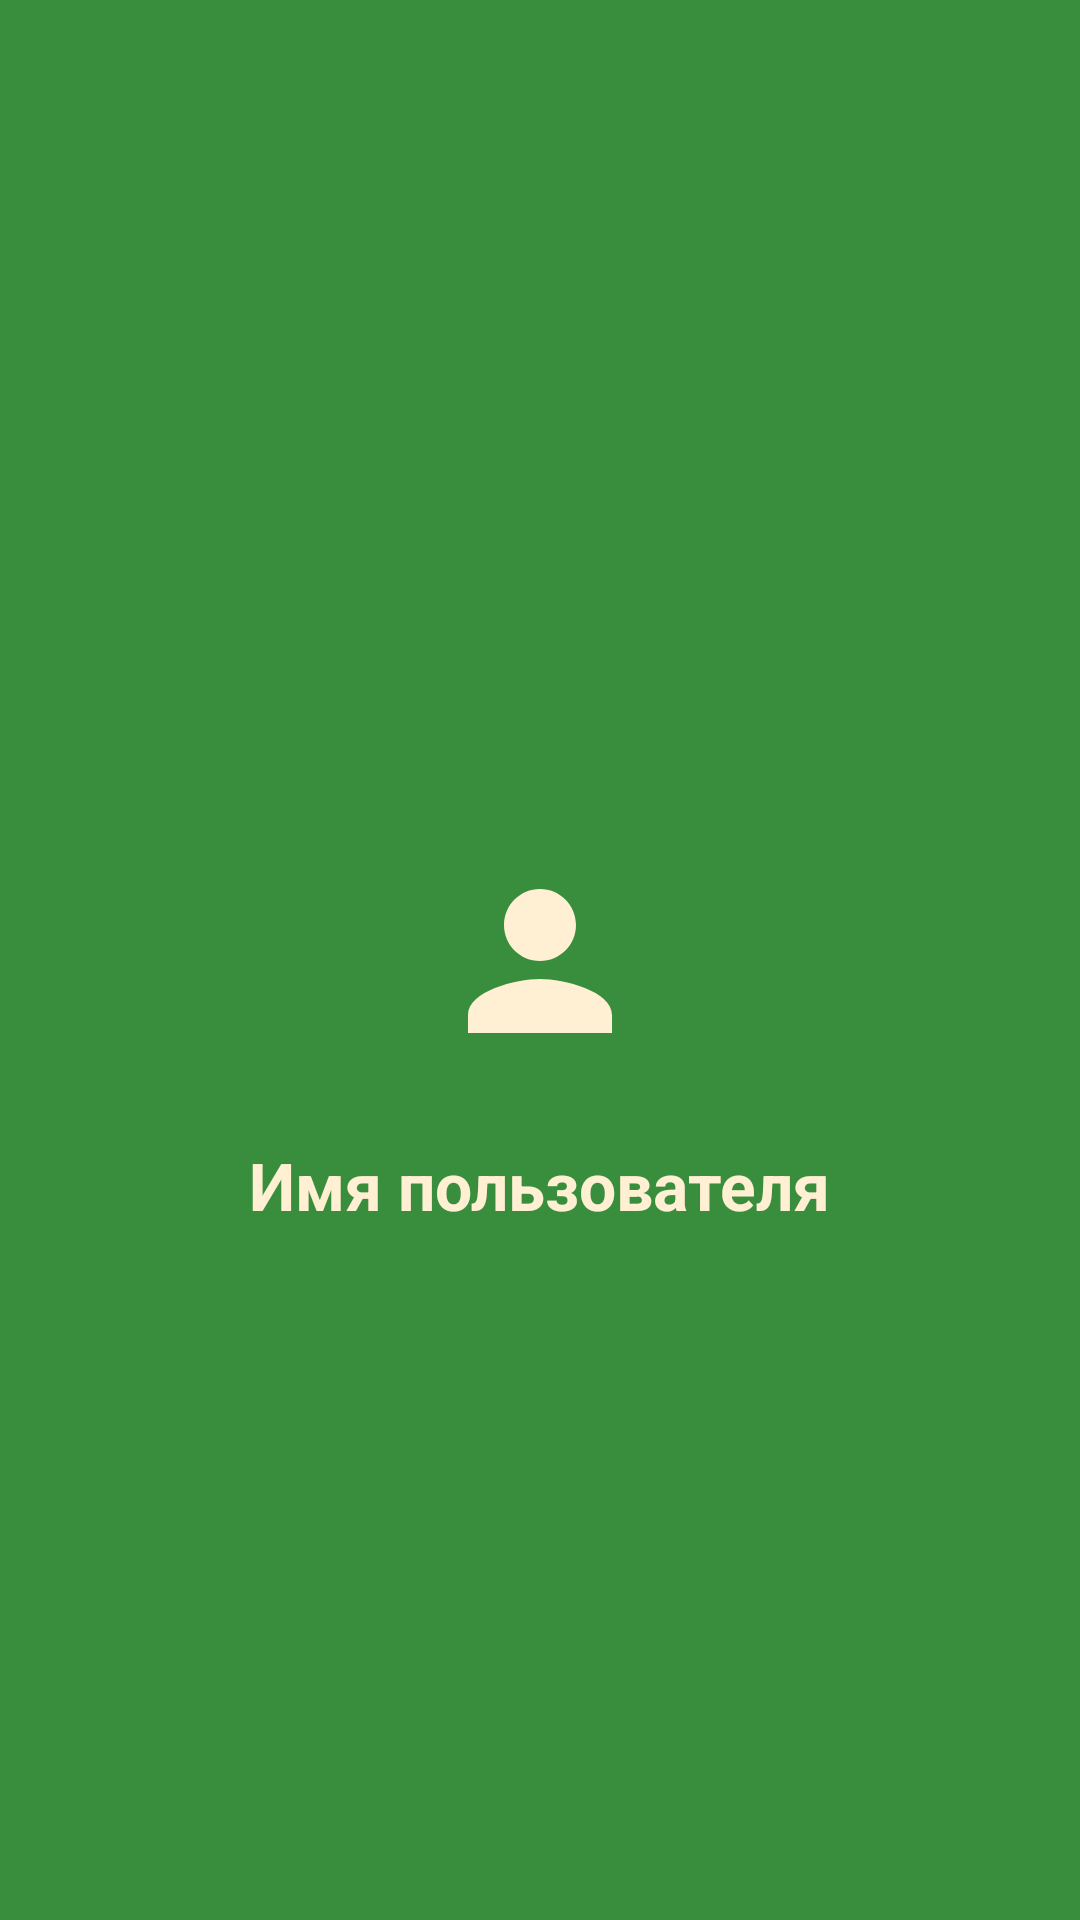

Icon bounding boxes for this 1080px×1920px phone screenshot, format (x1, y1, x2, y2):
Профиль: (468, 889, 612, 1033)
